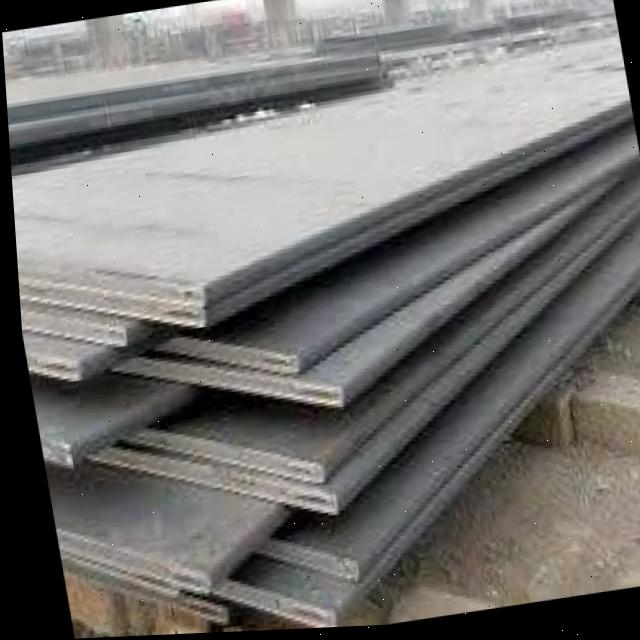Dry: (10, 102, 640, 637)
